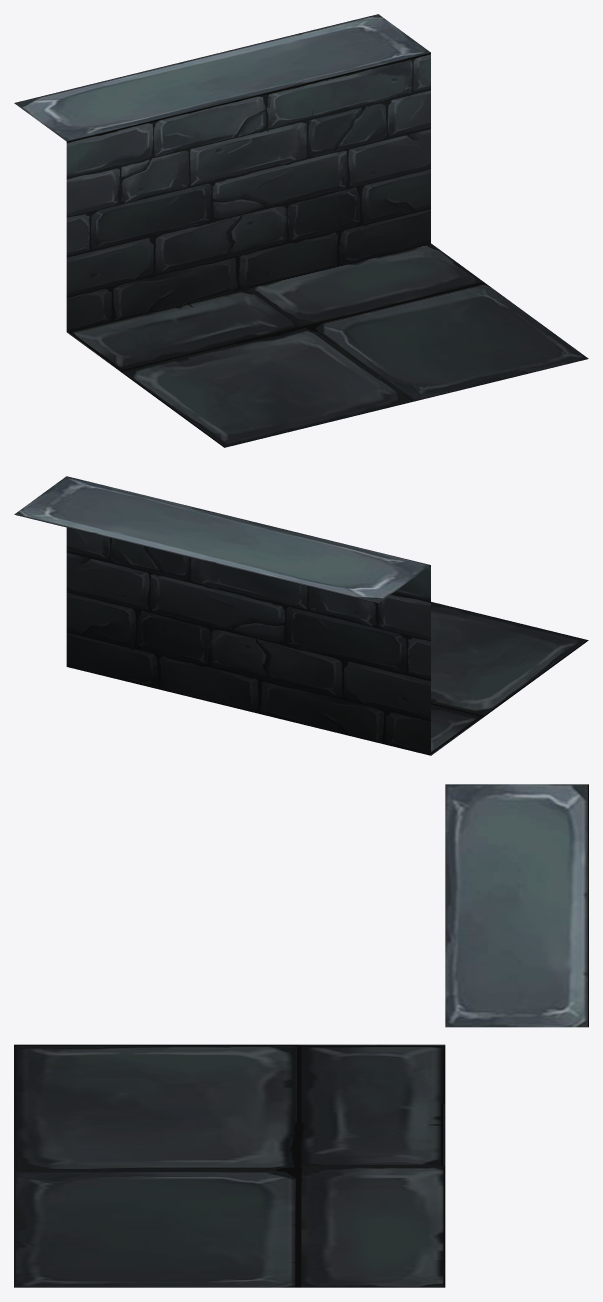
File: wall.fbx
3 views of the same model, one above another, from view 1: azimuth 30°, elevation 25°; view 2: azimuth 150°, elevation 25°; view 3: azimuth 270°, elevation 25° (orthographic). The views are drawn at different scales.
Visible parts, largest first — view 1: wall_geo; view 2: wall_geo; view 3: wall_geo.
Part boxes in pixels (bbox=[...]): wall_geo: bbox=[14, 14, 588, 447]; wall_geo: bbox=[14, 476, 588, 755]; wall_geo: bbox=[14, 784, 588, 1287].
Size of the model in its own units: 100 by 50 by 100.
Materials: 1 (1 with a texture image).
